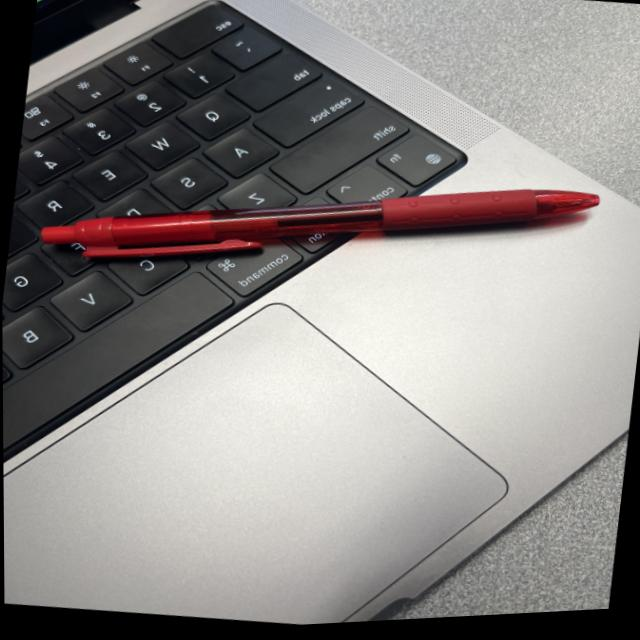pen: (36, 130, 605, 324)
